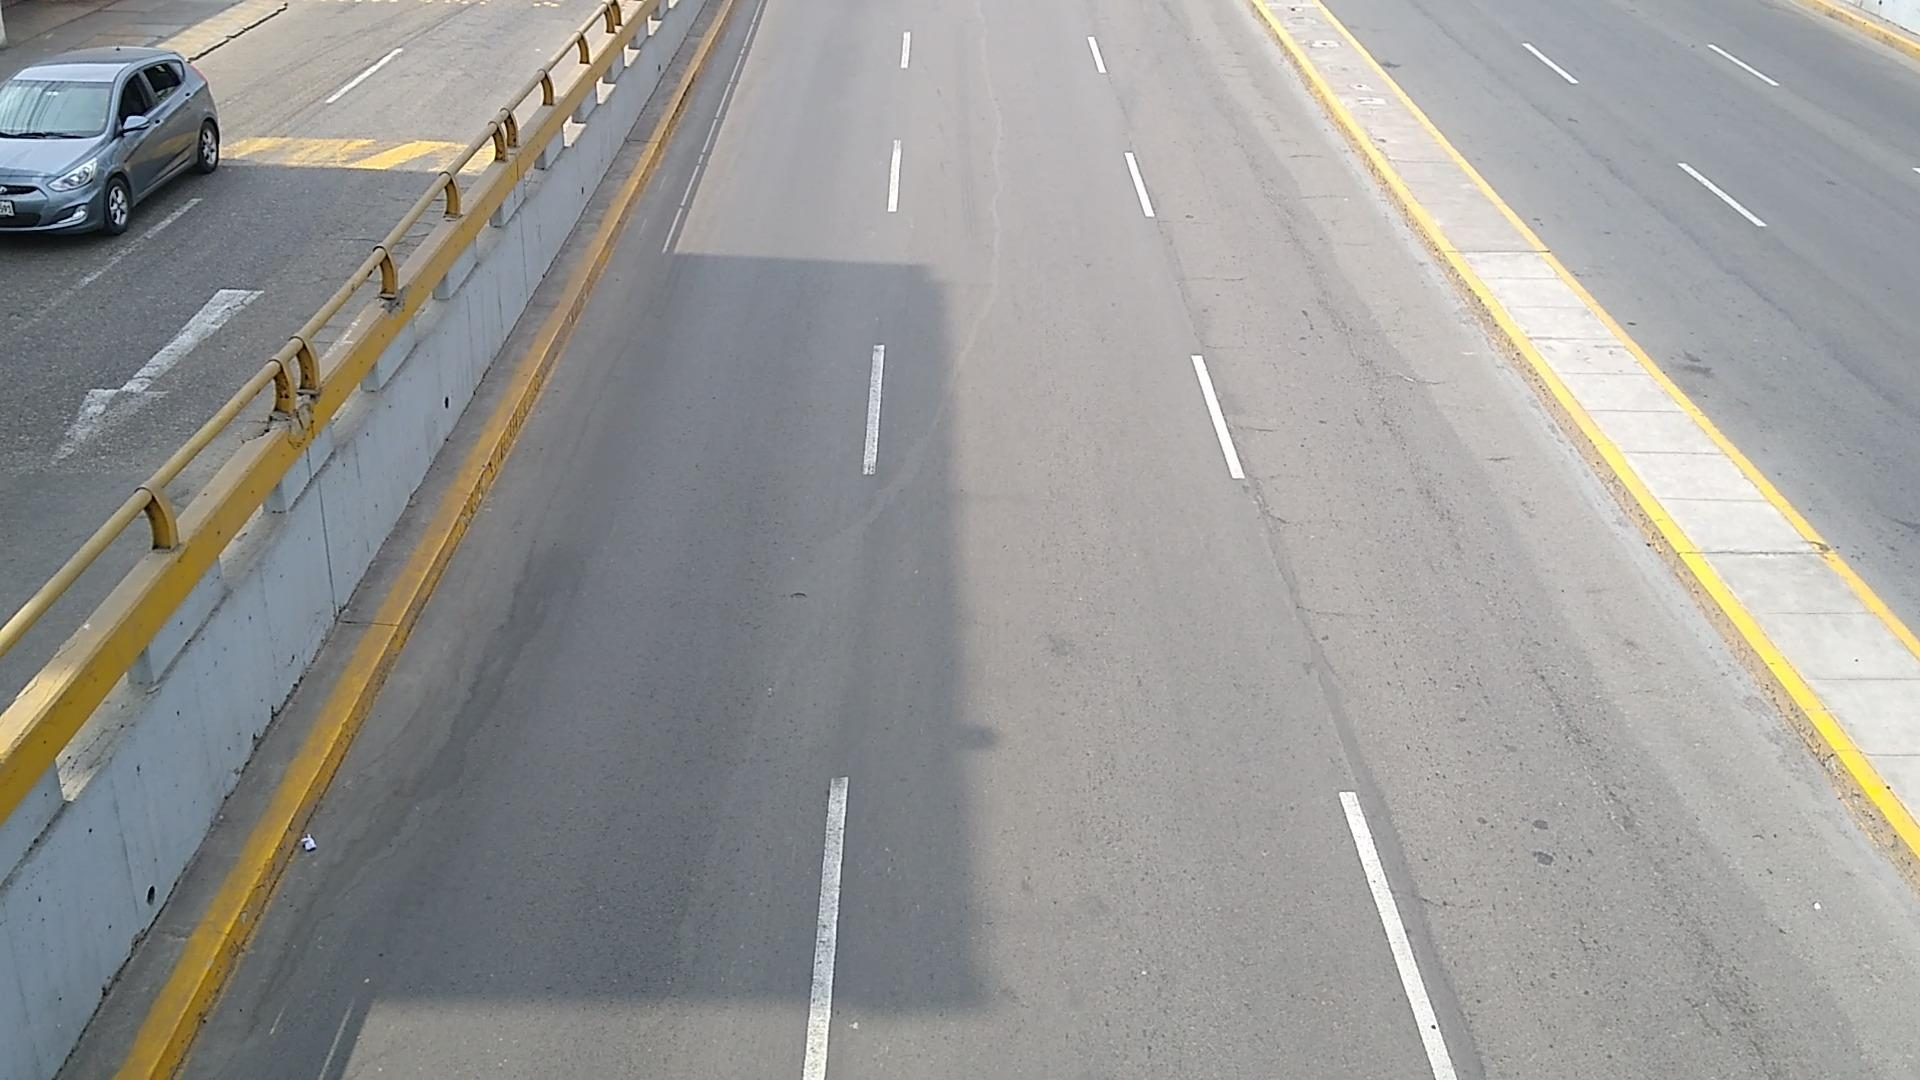car: (0, 49, 222, 231)
